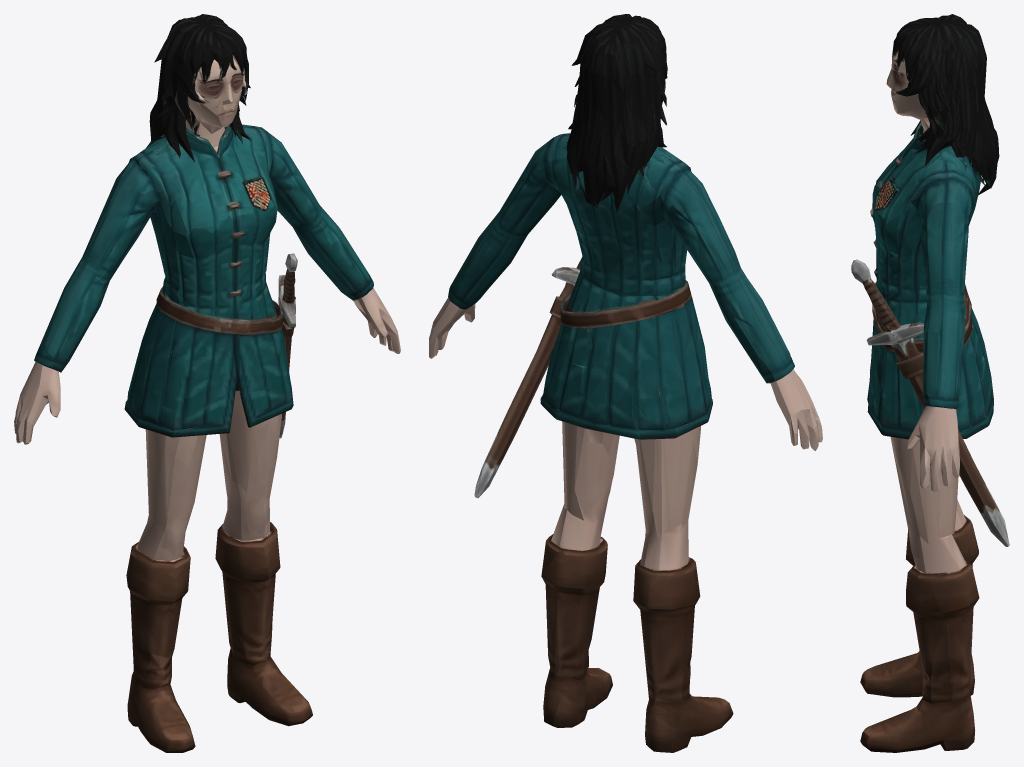
The model's file is MW_Adventurer.glb.
3 views of the same model, side by side, from view 1: azimuth 30°, elevation 25°; view 2: azimuth 150°, elevation 25°; view 3: azimuth 270°, elevation 25° (orthographic). The views are drawn at different scales.
Size of the model in its own units: 1.09 by 1.9 by 0.3911.
Materials: 1 (1 with a texture image).
